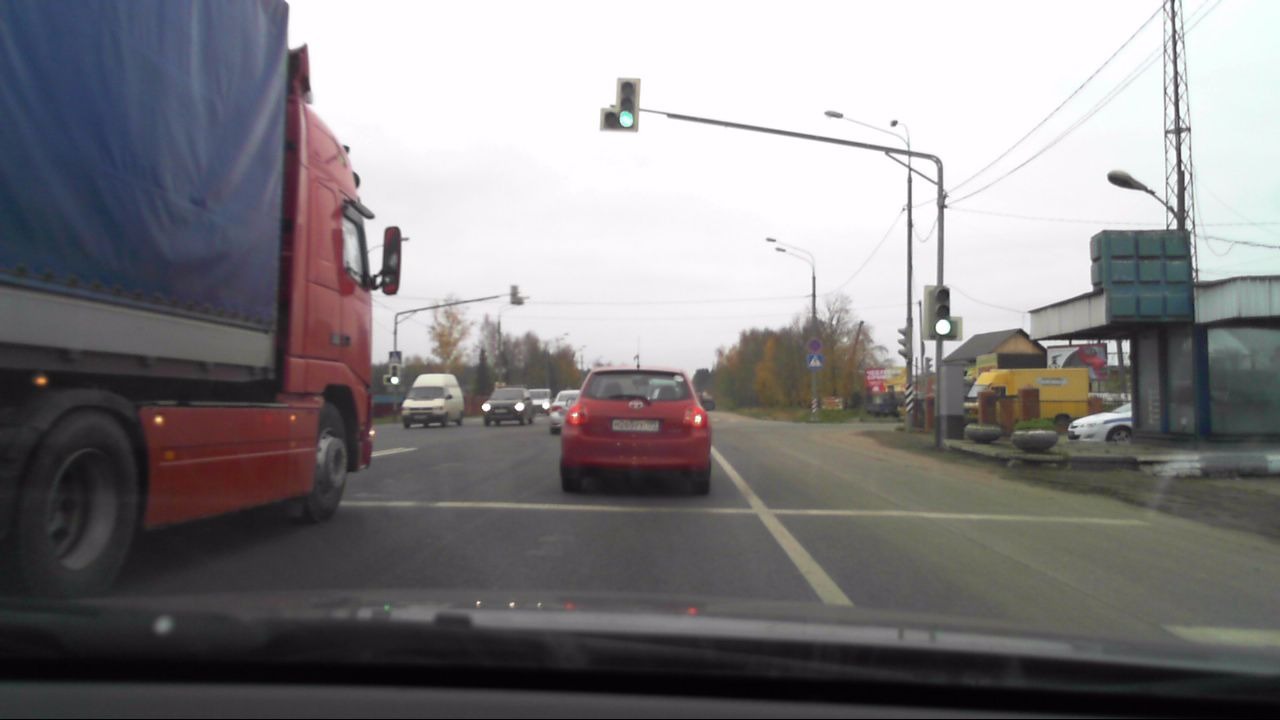No Parking: (805, 333, 823, 351)
